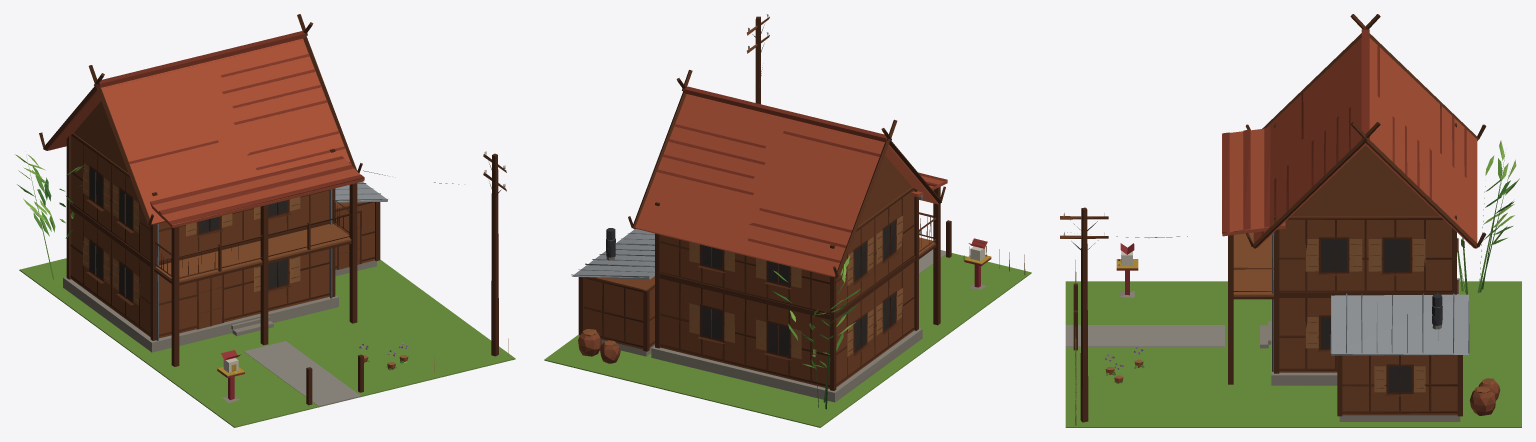
Rendered from house12_2.glb.
3 views of the same model, side by side, from view 1: azimuth 30°, elevation 25°; view 2: azimuth 150°, elevation 25°; view 3: azimuth 270°, elevation 25° (orthographic). The views are drawn at different scales.
Parts seen in each view (by area): view 1: body, windows; view 2: body, windows; view 3: body, windows.
Part boxes in pixels (<box>): body: <box>15,14,515,427</box>; windows: <box>90,168,287,300</box>; body: <box>544,14,1031,427</box>; windows: <box>701,221,895,355</box>; body: <box>1060,14,1521,427</box>; windows: <box>1321,239,1411,392</box>.
Bounding box in the file's own units: 12.64 × 10.64 × 16.1.
